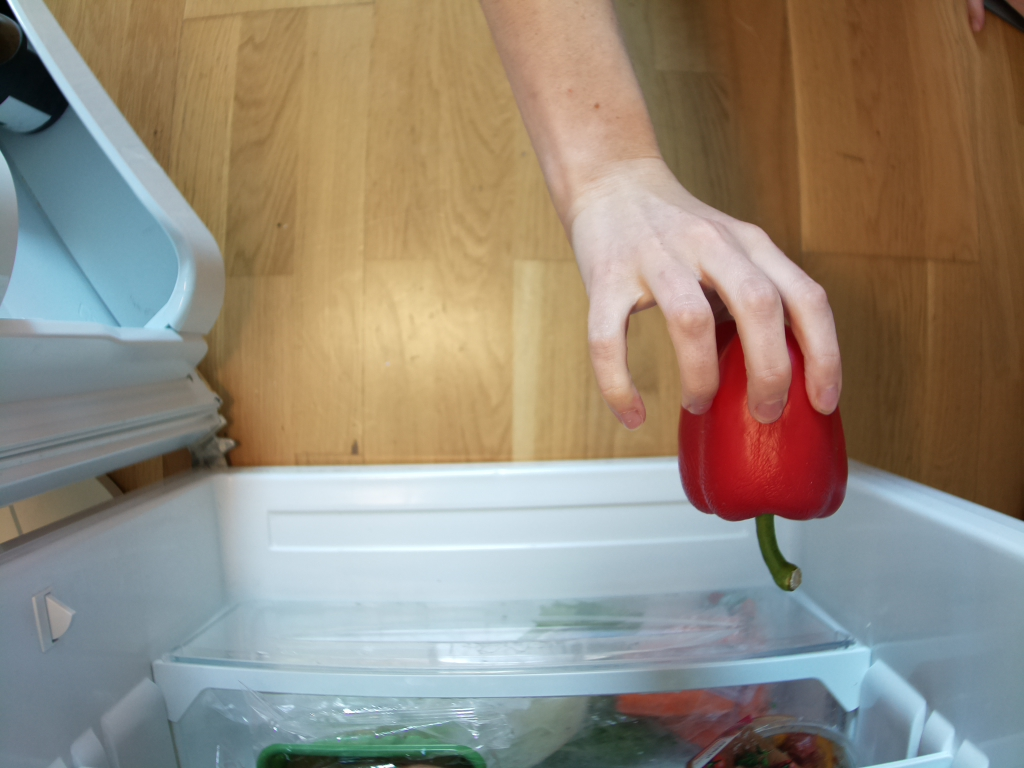pepper-bad: (678, 328, 852, 595)
